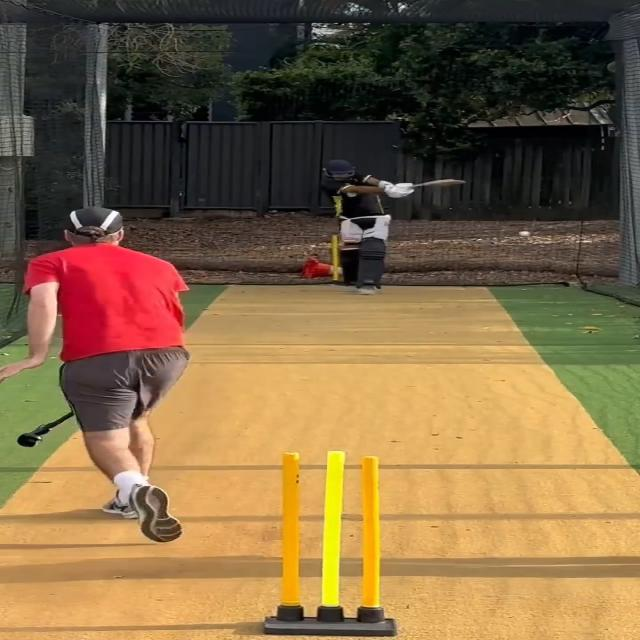ball: (518, 230, 532, 239)
stump: (262, 449, 396, 637)
